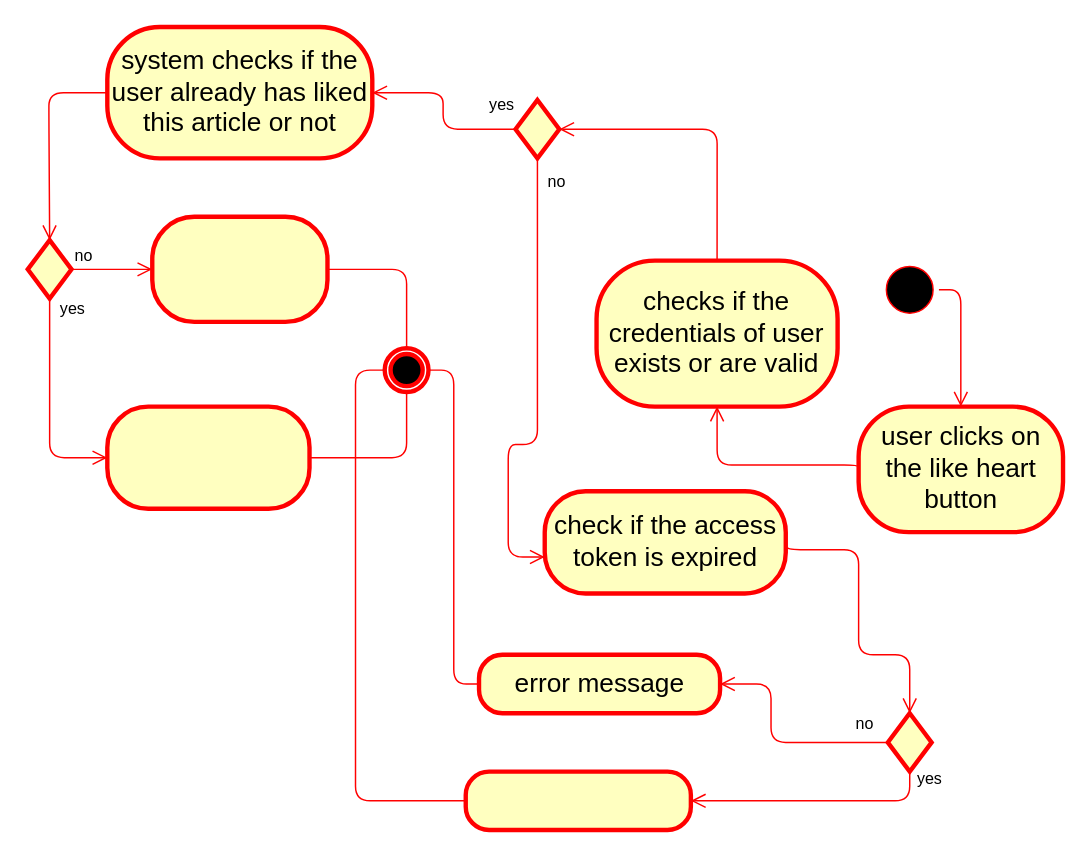
The diagram is 1091 pixels wide and 857 high, and some of its shapes have lost their labels. Each missing label, with the centre of its shape:
"need refresh" belongs at (577,800).
"so like the article" belongs at (239,268).
"so unlike the article" belongs at (207,457).
